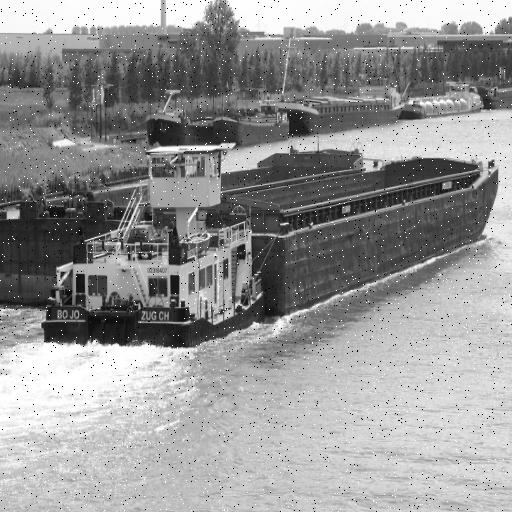tugboat: (40, 140, 270, 358)
